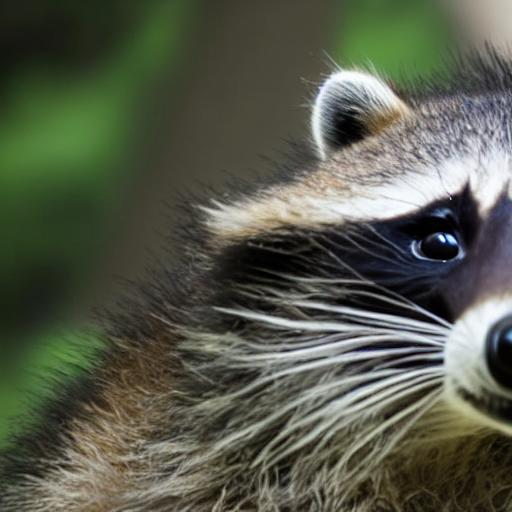raccoon: (0, 52, 512, 512)
